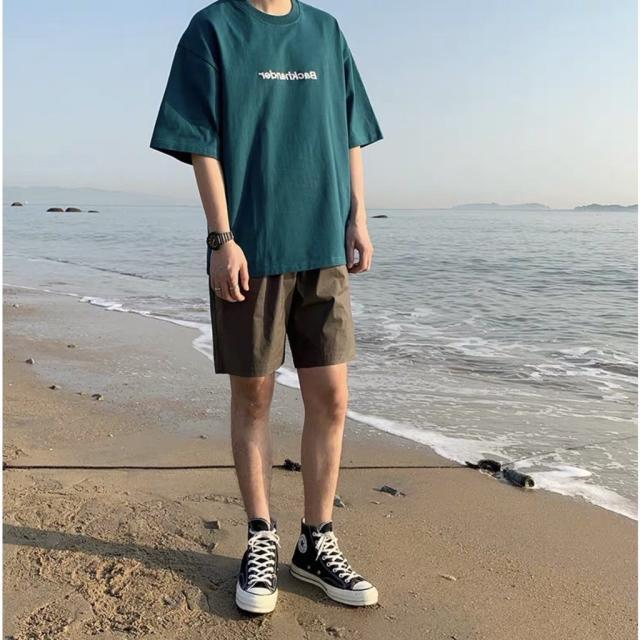Shorts: (206, 262, 359, 379)
short sleeve shirt: (146, 1, 385, 277)
